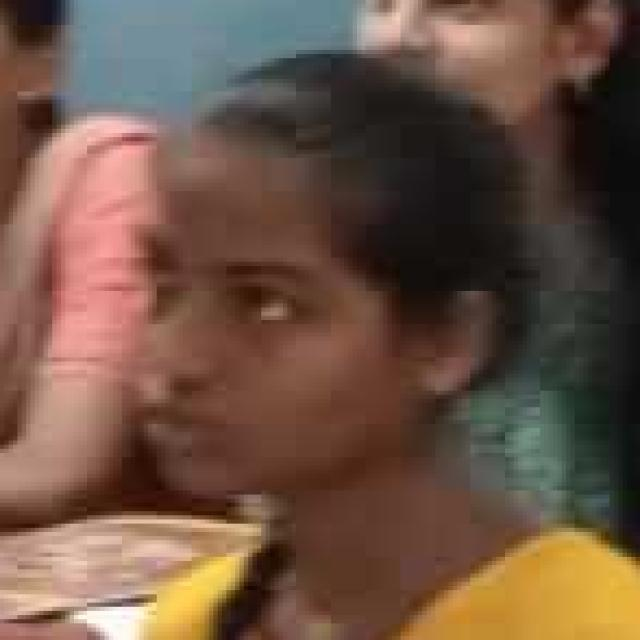Looking forward: (134, 153, 478, 512)
